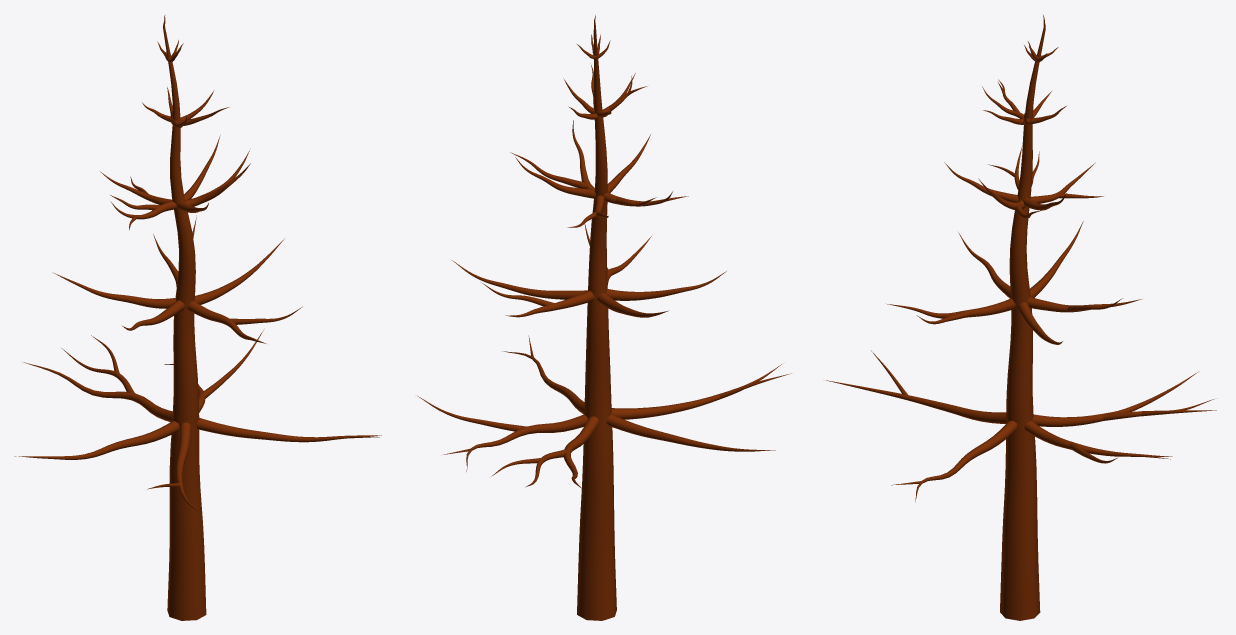
The model's file is DeadPineTree.fbx.
3 renders of one model, left to right at view 1: azimuth 30°, elevation 25°; view 2: azimuth 150°, elevation 25°; view 3: azimuth 270°, elevation 25°, orthographic. The views are drawn at different scales.
Visible parts, largest first — view 1: tree; view 2: tree; view 3: tree.
Boxes of the visible parts, x1,y1,x2,y2 form: tree: [14, 15, 381, 620]; tree: [417, 15, 791, 620]; tree: [826, 15, 1216, 620].
Bounding box in the file's own units: 361 × 639 × 390.
